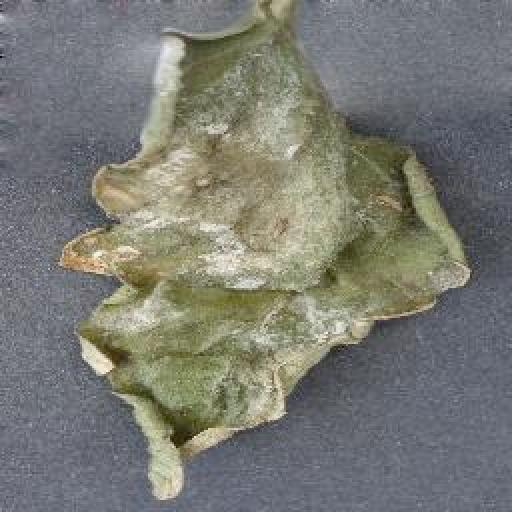disease_tomato: (57, 0, 471, 502)
